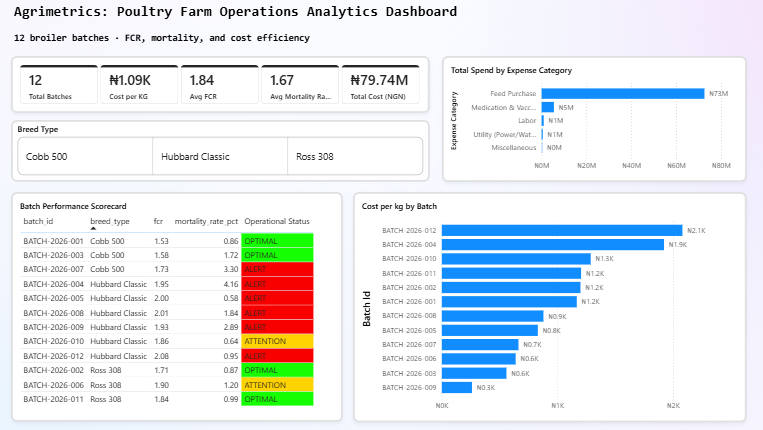

The dashboard page shown, as its layout file describes it:
{"tool":"powerbi","page":{"name":"Executive Performance Overview","canvas":[1280,720],"ordinal":0},"visuals":[{"type":"textbox","box":[22.4,0,777.6,48.3],"z":0},{"type":"textbox","box":[22.4,48.3,777.6,32.8],"z":1000},{"type":"cardVisual","fields":{"Data":["_Measures.Total Batches","_Measures.Cost per KG","_Measures.Avg FCR","_Measures.Avg Mortality Rate %","_Measures.Total Cost (NGN)"]},"box":[21.7,93.3,698.3,95],"z":2000},{"type":"clusteredBarChart","title":"Cost per kg by Batch","fields":{"Y":["_Measures.Cost per KG"],"Category":["batch_summary_metrics.batch_id"]},"box":[592,320,656,384],"z":7000},{"type":"clusteredBarChart","title":"Total Spend by Expense Category","fields":{"Category":["financials.expense_category"],"Y":["_Measures.Total Cost (NGN)"]},"box":[740,93.3,508.3,210],"z":8000},{"type":"advancedSlicerVisual","title":"Breed Type","fields":{"Values":["batch_summary_metrics.breed_type"]},"box":[21.7,200,698.3,103.3],"z":9000},{"type":"tableEx","title":"Batch Performance Scorecard","fields":{"Values":["batch_summary_metrics.batch_id","batch_summary_metrics.breed_type","Sum(batch_summary_metrics.fcr)","Sum(batch_summary_metrics.mortality_rate_pct)","batch_summary_metrics.Operational Status"]},"box":[22.4,320.7,553.4,382.8],"z":10000}]}

Visuals, with their boxes in screenshot pixels (x1, y1, x2, y2), scaled from the page's 1280x720 canvas onto the 763x430 screenshot:
textbox: <region>13, 0, 477, 29</region>
textbox: <region>13, 29, 477, 48</region>
cardVisual - _Measures.Total Batches x _Measures.Cost per KG: <region>13, 56, 429, 112</region>
"Cost per kg by Batch" clusteredBarChart: <region>353, 191, 744, 420</region>
"Total Spend by Expense Category" clusteredBarChart: <region>441, 56, 744, 181</region>
"Breed Type" advancedSlicerVisual: <region>13, 119, 429, 181</region>
"Batch Performance Scorecard" tableEx: <region>13, 192, 343, 420</region>
